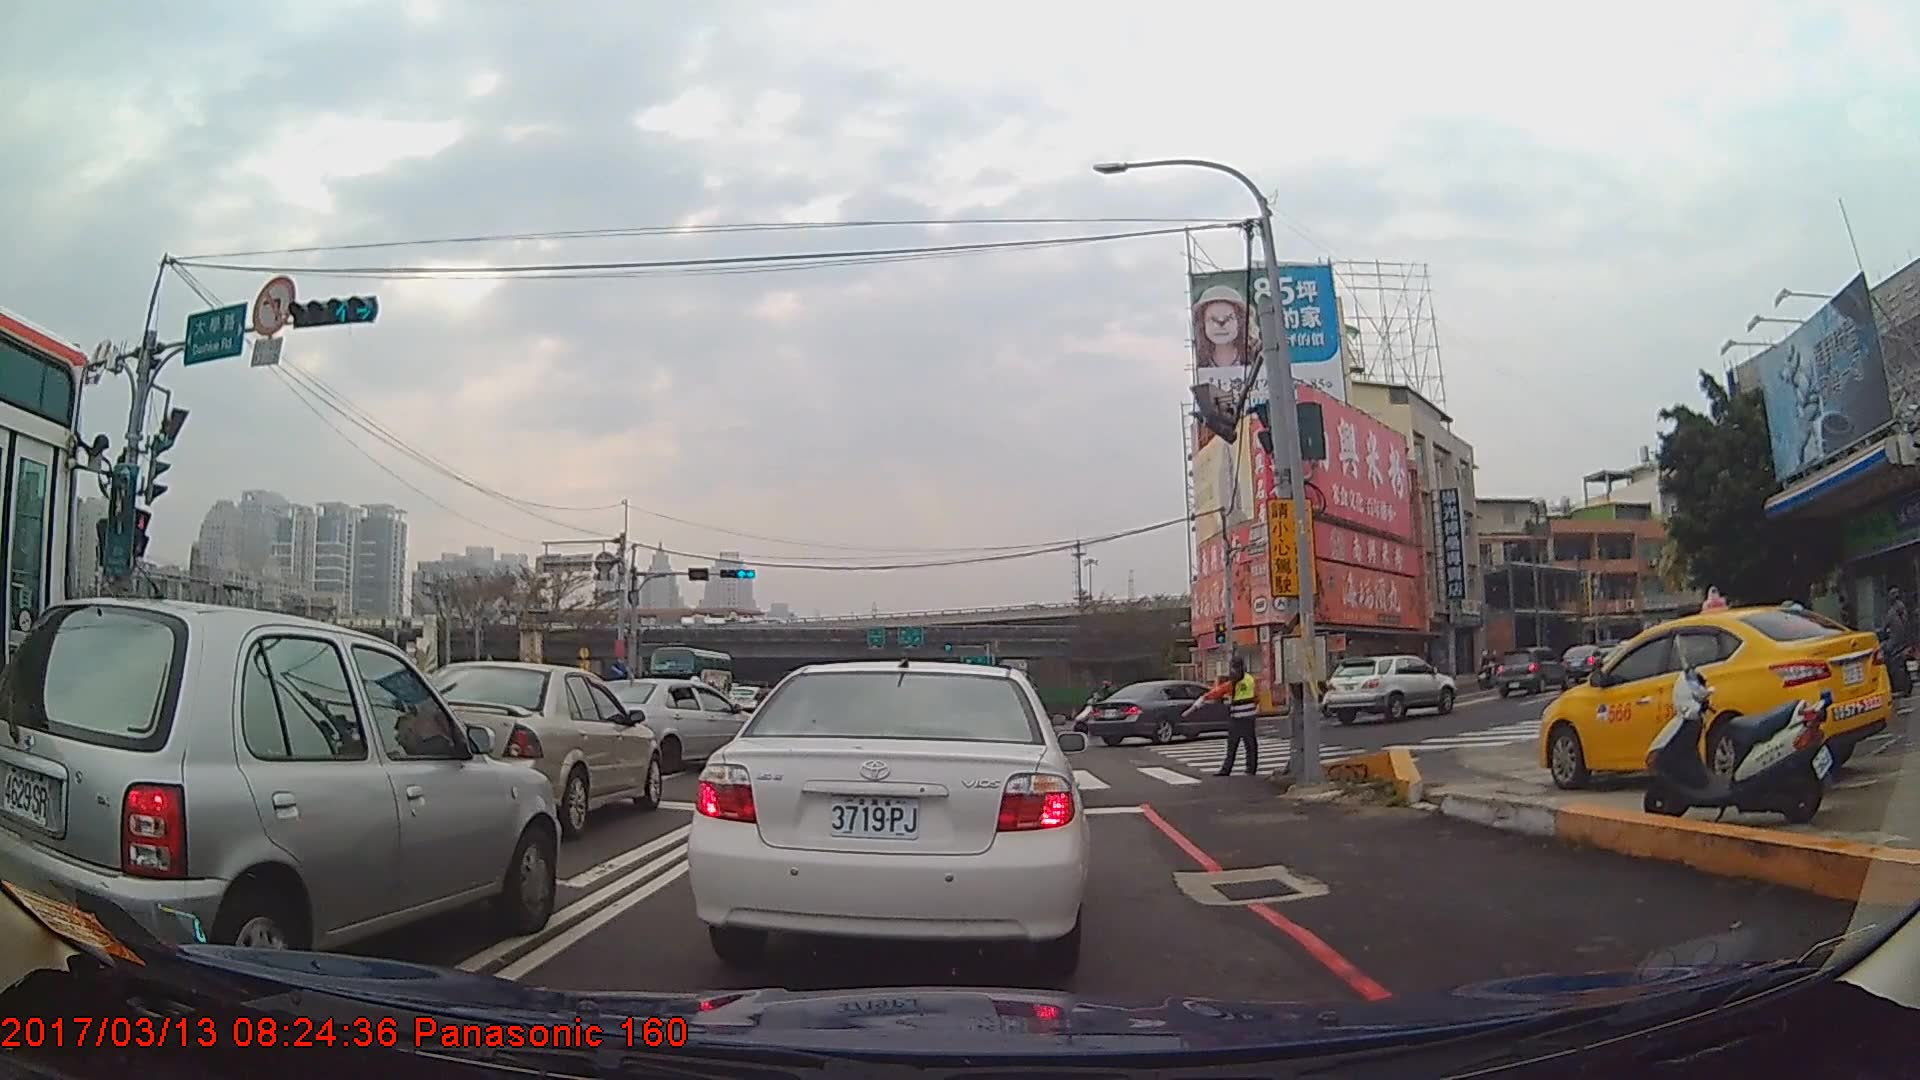pedestrian: (1182, 657, 1260, 778)
rider: (1872, 586, 1920, 699), (1076, 681, 1136, 738)
vehicle: (0, 597, 561, 987), (686, 652, 1090, 968), (1539, 603, 1893, 793), (0, 297, 87, 841), (397, 659, 661, 838), (584, 676, 763, 773), (1086, 680, 1243, 747), (1327, 652, 1454, 722), (648, 645, 732, 703), (1493, 645, 1569, 696), (727, 683, 766, 715)
